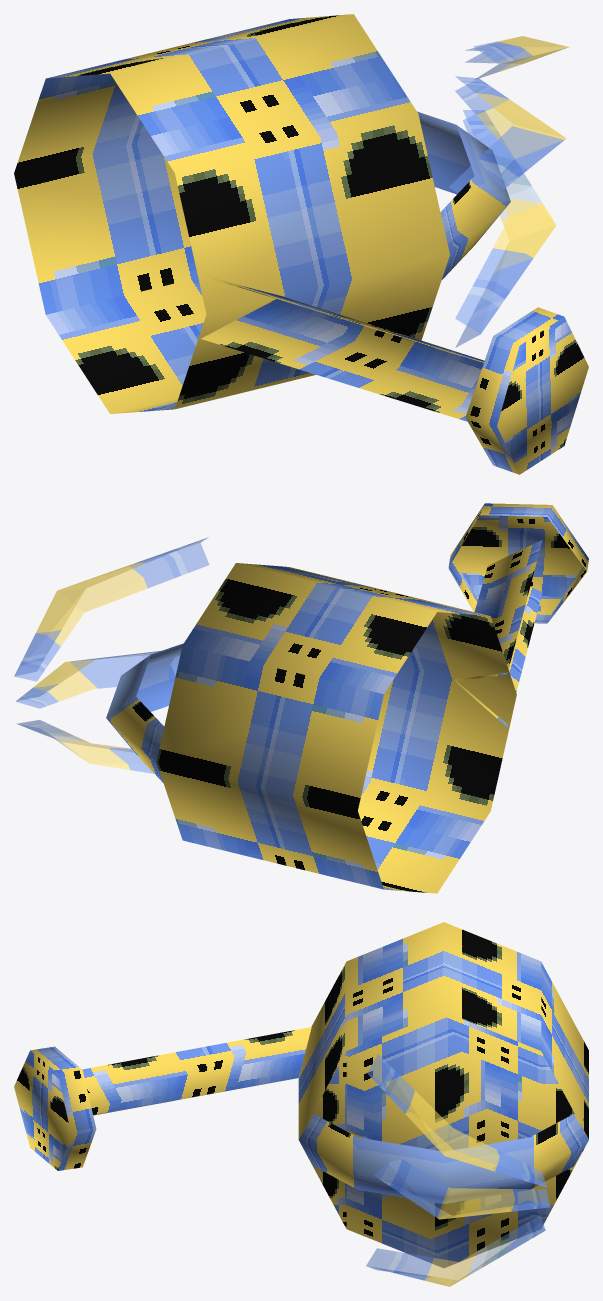
The model's file is 2703equip04_e.gltf.
The picture shows the model from 3 angles, top to bottom: view 1: azimuth 30°, elevation 25°; view 2: azimuth 150°, elevation 25°; view 3: azimuth 270°, elevation 25°; orthographic projection. The views are drawn at different scales.
Visible parts, largest first — view 1: 2703equip04_e; view 2: 2703equip04_e; view 3: 2703equip04_e.
Part boxes in pixels (left/top/right/bottom): 2703equip04_e: left=14, top=14, right=588, bottom=474; 2703equip04_e: left=14, top=503, right=588, bottom=893; 2703equip04_e: left=14, top=922, right=588, bottom=1286.
Bounding box in the file's own units: 0.4944 × 0.3501 × 0.7104.
Materials: 2 (2 with a texture image).
